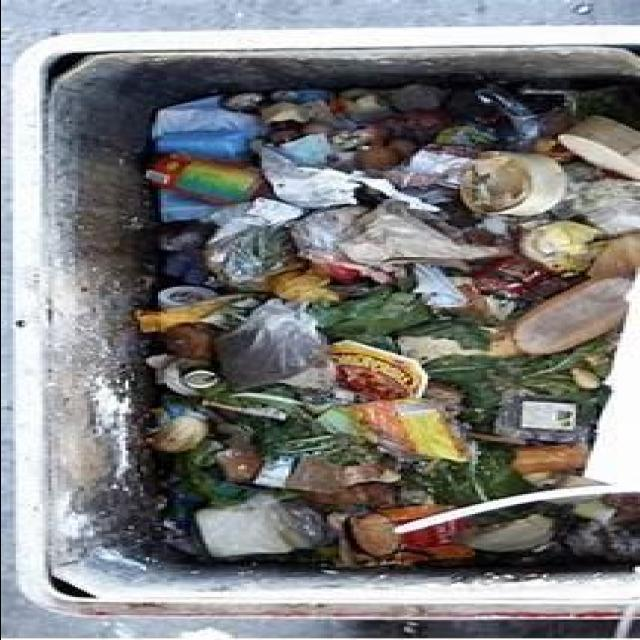Garbage: (134, 79, 639, 570)
Plastic_Bag: (214, 299, 333, 389), (203, 199, 304, 290), (152, 96, 264, 160)
Plastic_Container: (145, 155, 260, 202)
Plastic_Straw: (393, 485, 638, 534)
Plastic_wraper: (315, 399, 468, 462), (331, 340, 427, 400), (550, 179, 640, 235)
